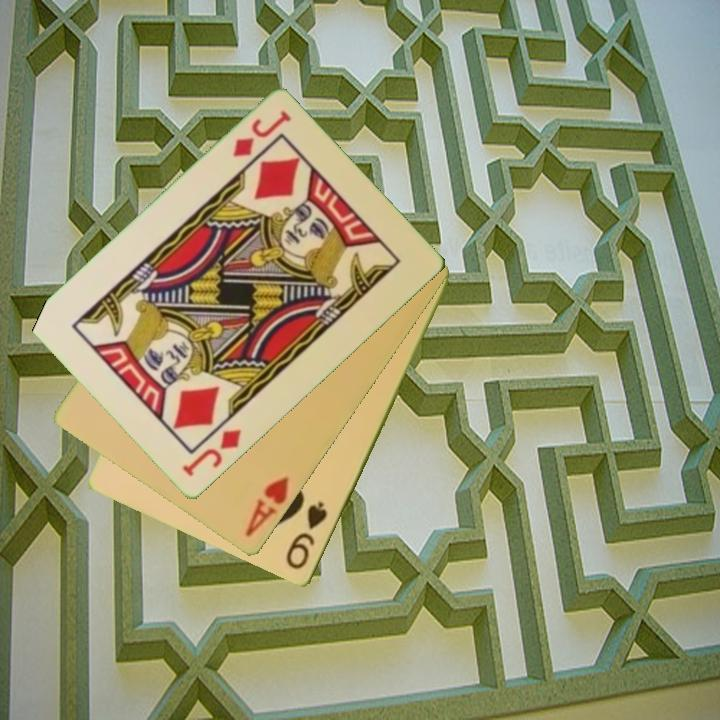9s: (282, 498, 331, 573)
Ah: (242, 473, 293, 541)
Jd: (179, 426, 245, 480), (229, 107, 295, 161)
